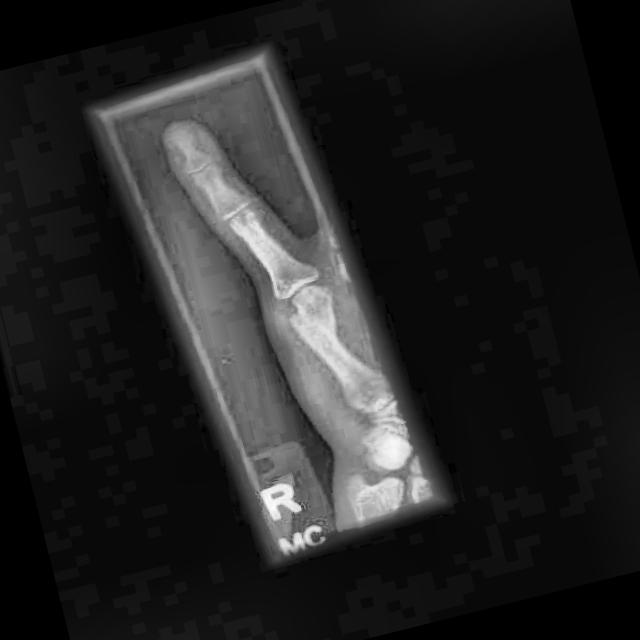fingers positive: (272, 282, 355, 351)
